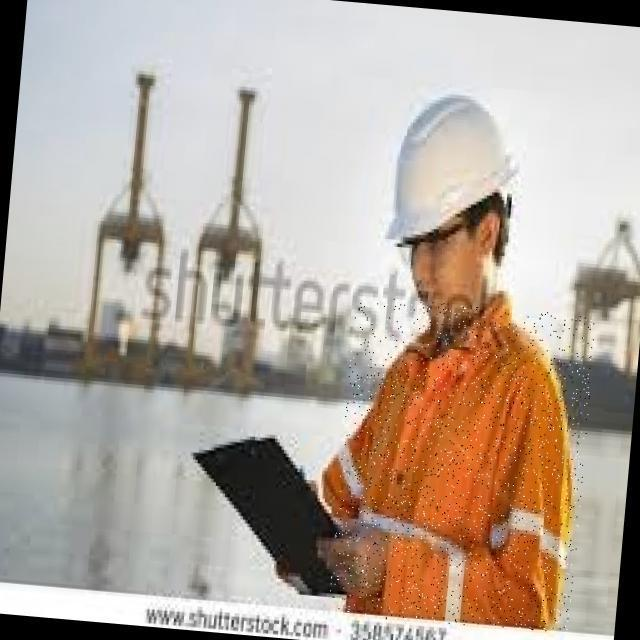helmet: (377, 81, 533, 256)
vest: (328, 295, 597, 635)
